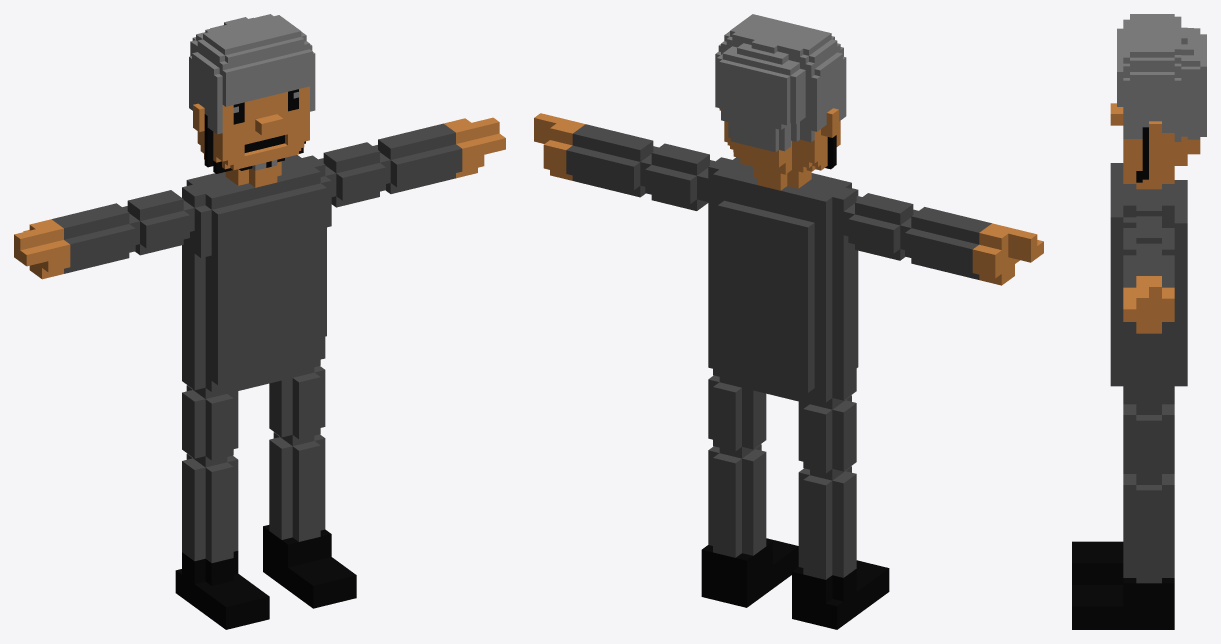
The model's file is charecter-4.obj.
3 views of the same model, side by side, from view 1: azimuth 30°, elevation 25°; view 2: azimuth 150°, elevation 25°; view 3: azimuth 270°, elevation 25° (orthographic). The views are drawn at different scales.
Size of the model in its own units: 8.8 by 9.7 by 2.1.
1 material, 1 textured.
